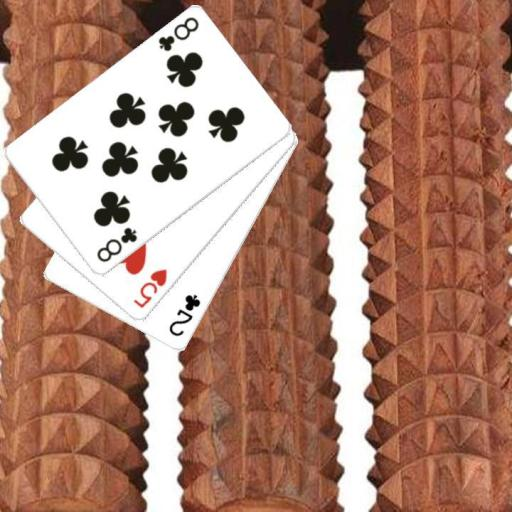2C: (166, 292, 203, 339)
5H: (130, 266, 169, 311)
8C: (94, 224, 140, 265), (155, 15, 201, 54)
